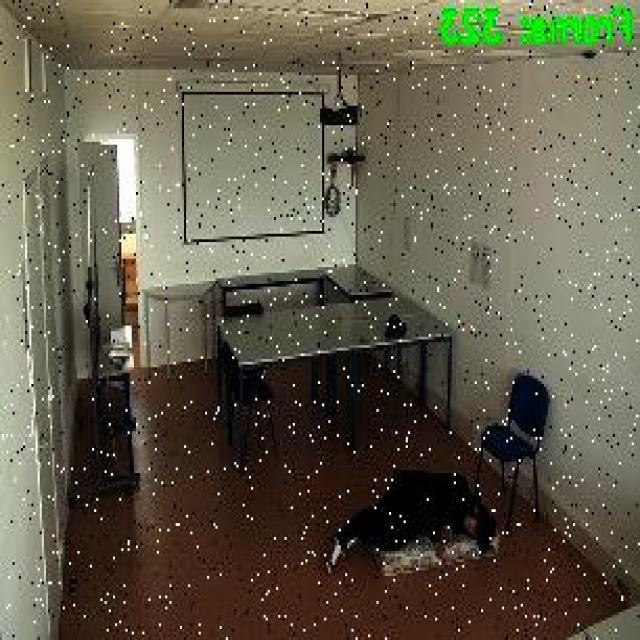fall: (320, 464, 500, 584)
